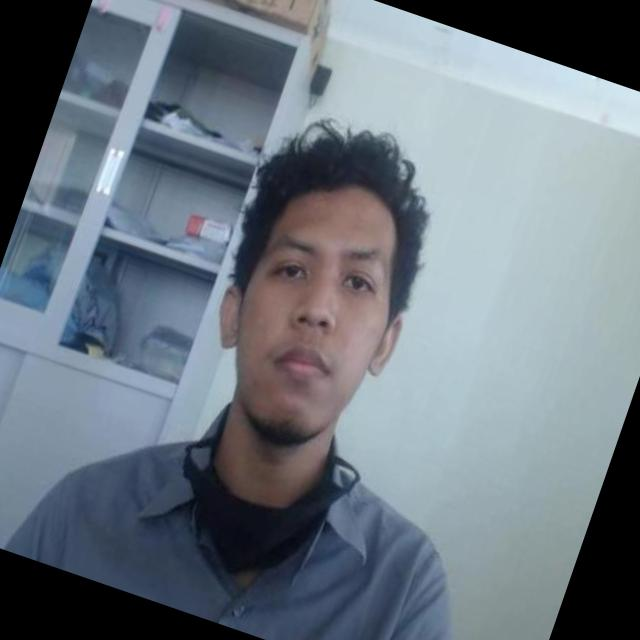bareface: (173, 132, 430, 438)
